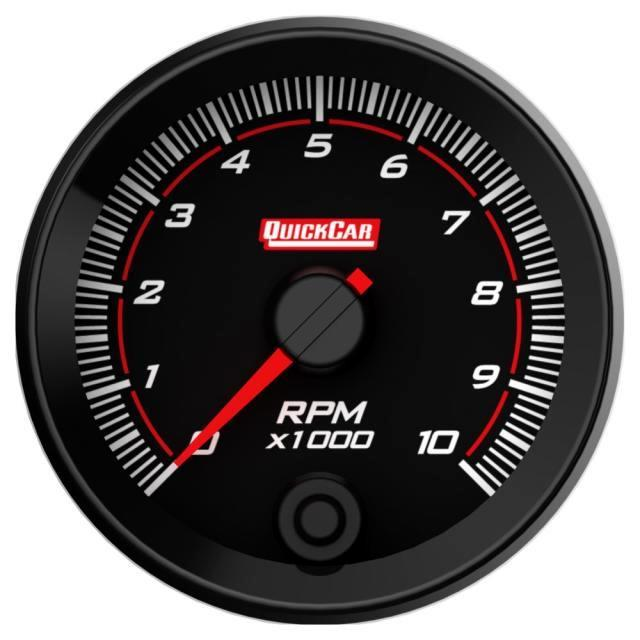Needle_Tip: (130, 428, 234, 491)
Needle_base: (244, 248, 411, 380)
max_value: (403, 405, 477, 480)
min_value: (160, 405, 257, 479)
